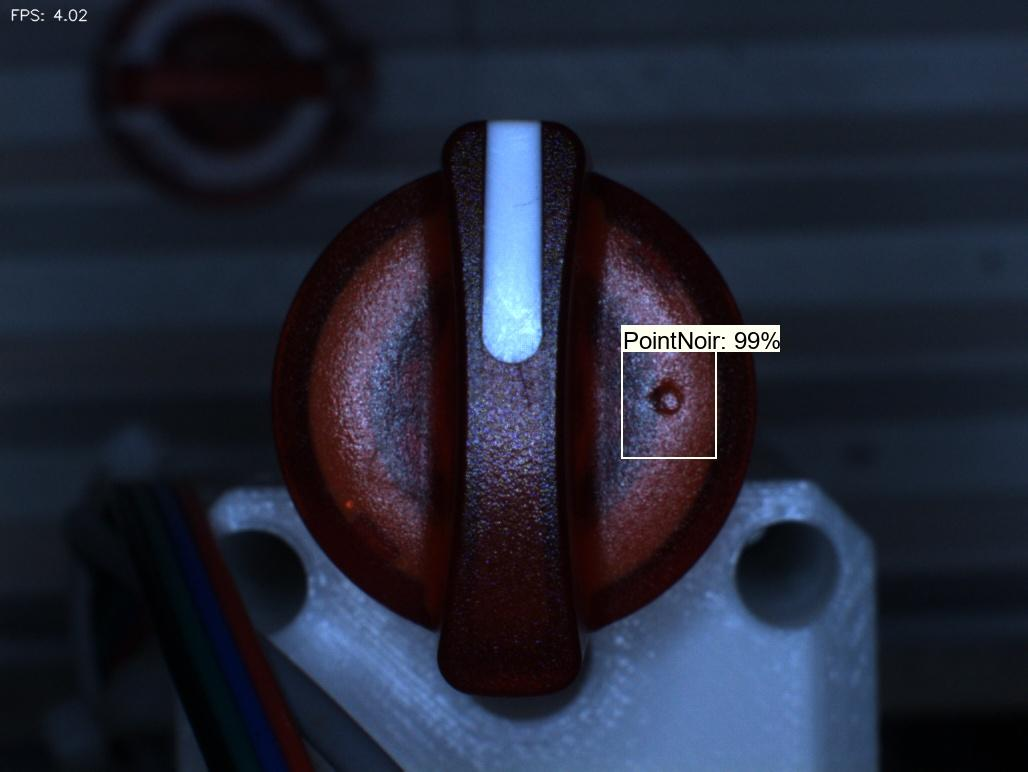Choc: (629, 362, 709, 454)
